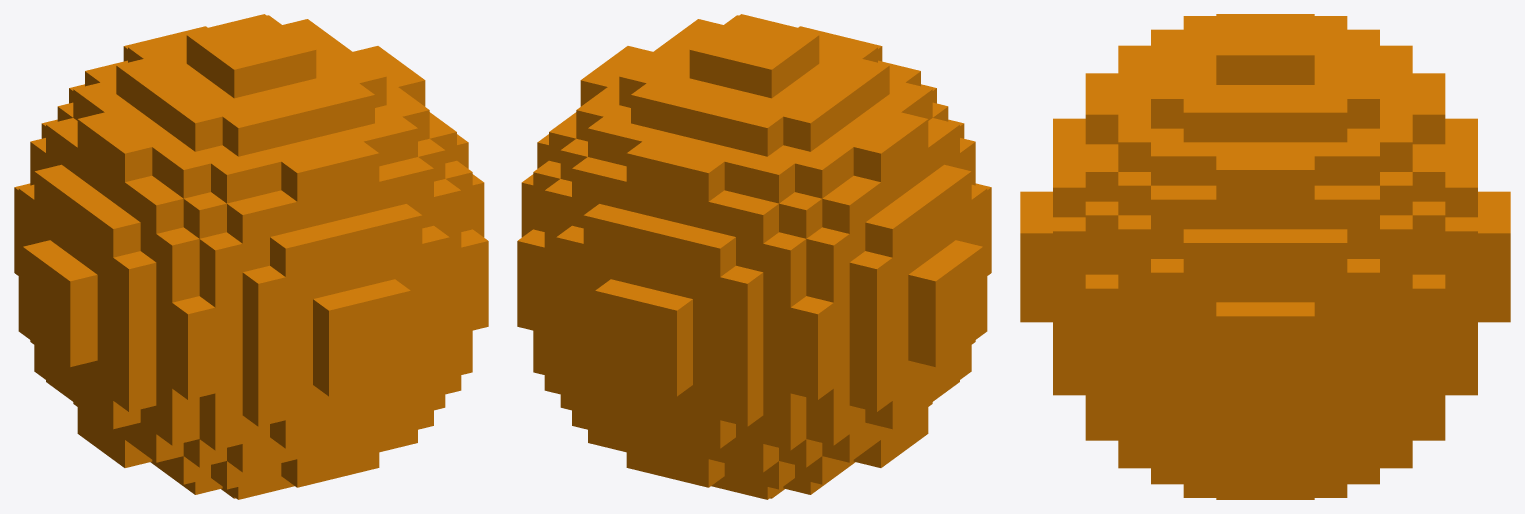
The model's file is MazeEgg2.gltf.
The picture shows the model from 3 angles, left to right: view 1: azimuth 30°, elevation 25°; view 2: azimuth 150°, elevation 25°; view 3: azimuth 270°, elevation 25°; orthographic projection. The views are drawn at different scales.
Visible parts, largest first — view 1: Egg2; view 2: Egg2; view 3: Egg2.
Part boxes in pixels (box(x1,y1,x2,y2)): Egg2: box(14, 14, 488, 499); Egg2: box(517, 14, 991, 499); Egg2: box(1020, 14, 1510, 499).
Size of the model in its own units: 10.42 by 10.42 by 10.42.
